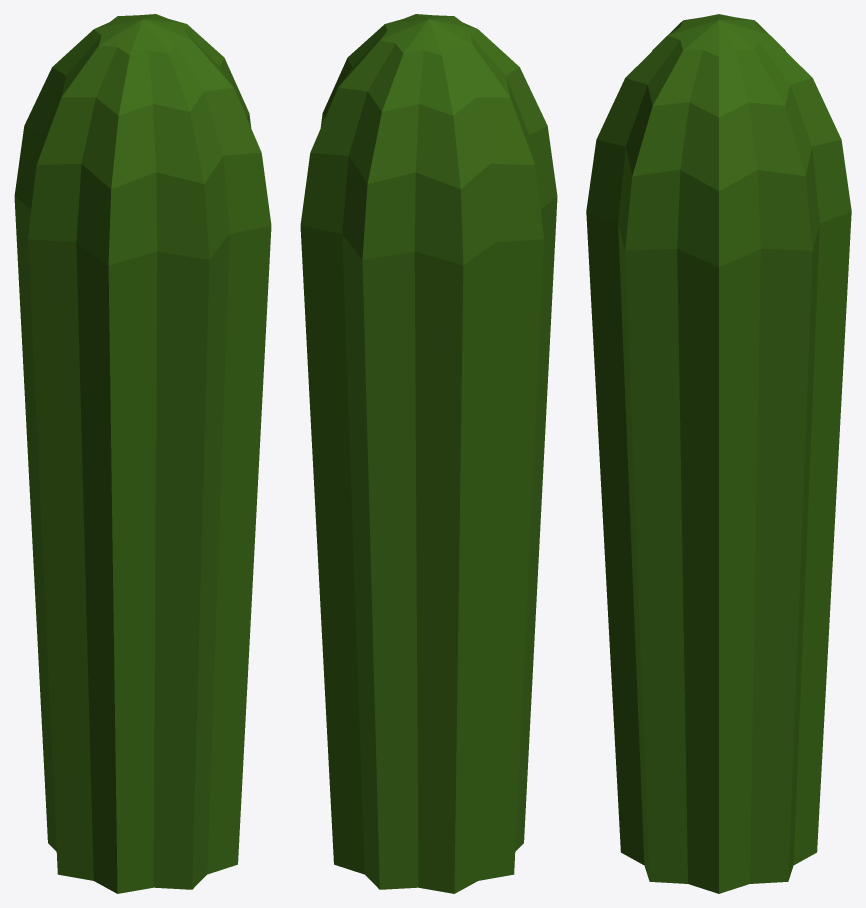
The model's file is Cactus_18_A.fbx.
3 views of the same model, side by side, from view 1: azimuth 30°, elevation 25°; view 2: azimuth 150°, elevation 25°; view 3: azimuth 270°, elevation 25° (orthographic).
Visible parts, largest first — view 1: Cactus_18_A; view 2: Cactus_18_A; view 3: Cactus_18_A.
Part boxes in pixels (x1=…): Cactus_18_A: x1=14, y1=14, x2=271, y2=893; Cactus_18_A: x1=300, y1=14, x2=557, y2=893; Cactus_18_A: x1=586, y1=14, x2=851, y2=893.
Size of the model in its own units: 70.21 by 243 by 70.21.
